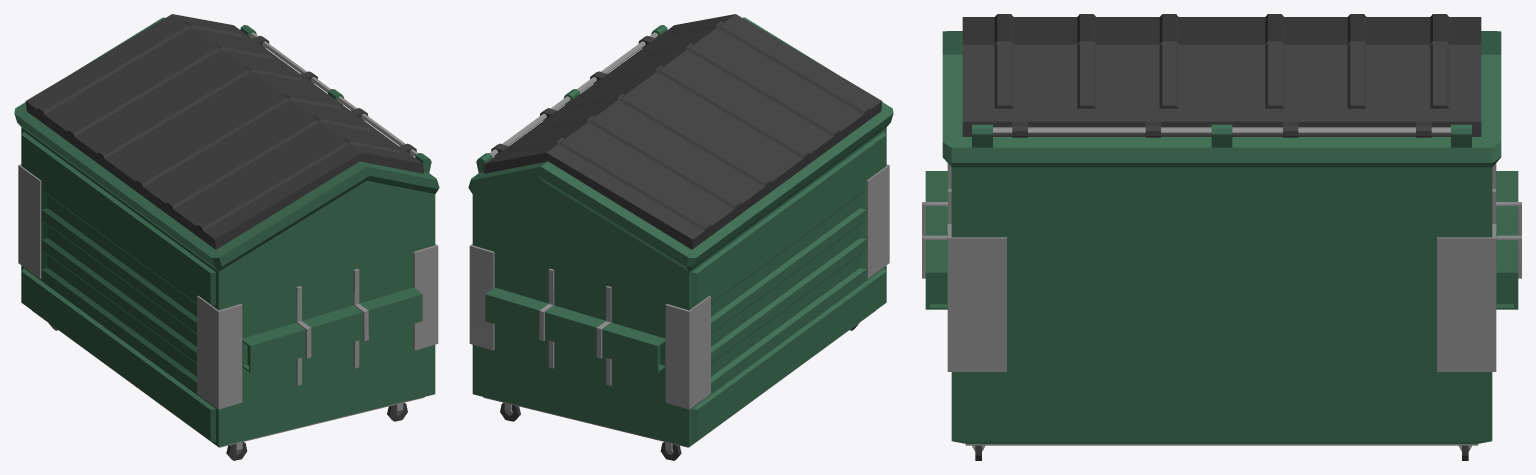
The model's file is Trash_Box.FBX.
3 renders of one model, left to right at view 1: azimuth 30°, elevation 25°; view 2: azimuth 150°, elevation 25°; view 3: azimuth 270°, elevation 25°, orthographic. The views are drawn at different scales.
Visible parts, largest first — view 1: Trash_Box_LOD0, Trash_Box_Cap_Right_LOD0, Trash_Box_Cap_Left_LOD0; view 2: Trash_Box_LOD0, Trash_Box_Cap_Left_LOD0, Trash_Box_Cap_Right_LOD0; view 3: Trash_Box_LOD0, Trash_Box_Cap_Right_LOD0, Trash_Box_Cap_Left_LOD0.
Boxes of the visible parts, <box> form: Trash_Box_LOD0: <box>14,17,439,460</box>; Trash_Box_Cap_Right_LOD0: <box>120,83,423,249</box>; Trash_Box_Cap_Left_LOD0: <box>25,14,327,180</box>; Trash_Box_LOD0: <box>468,17,893,460</box>; Trash_Box_Cap_Left_LOD0: <box>484,83,787,249</box>; Trash_Box_Cap_Right_LOD0: <box>580,14,882,180</box>; Trash_Box_LOD0: <box>922,31,1521,460</box>; Trash_Box_Cap_Right_LOD0: <box>962,14,1221,137</box>; Trash_Box_Cap_Left_LOD0: <box>1222,14,1481,137</box>.
Size of what is drawn, in the model's own units: 62.78 by 74.7 by 105.
